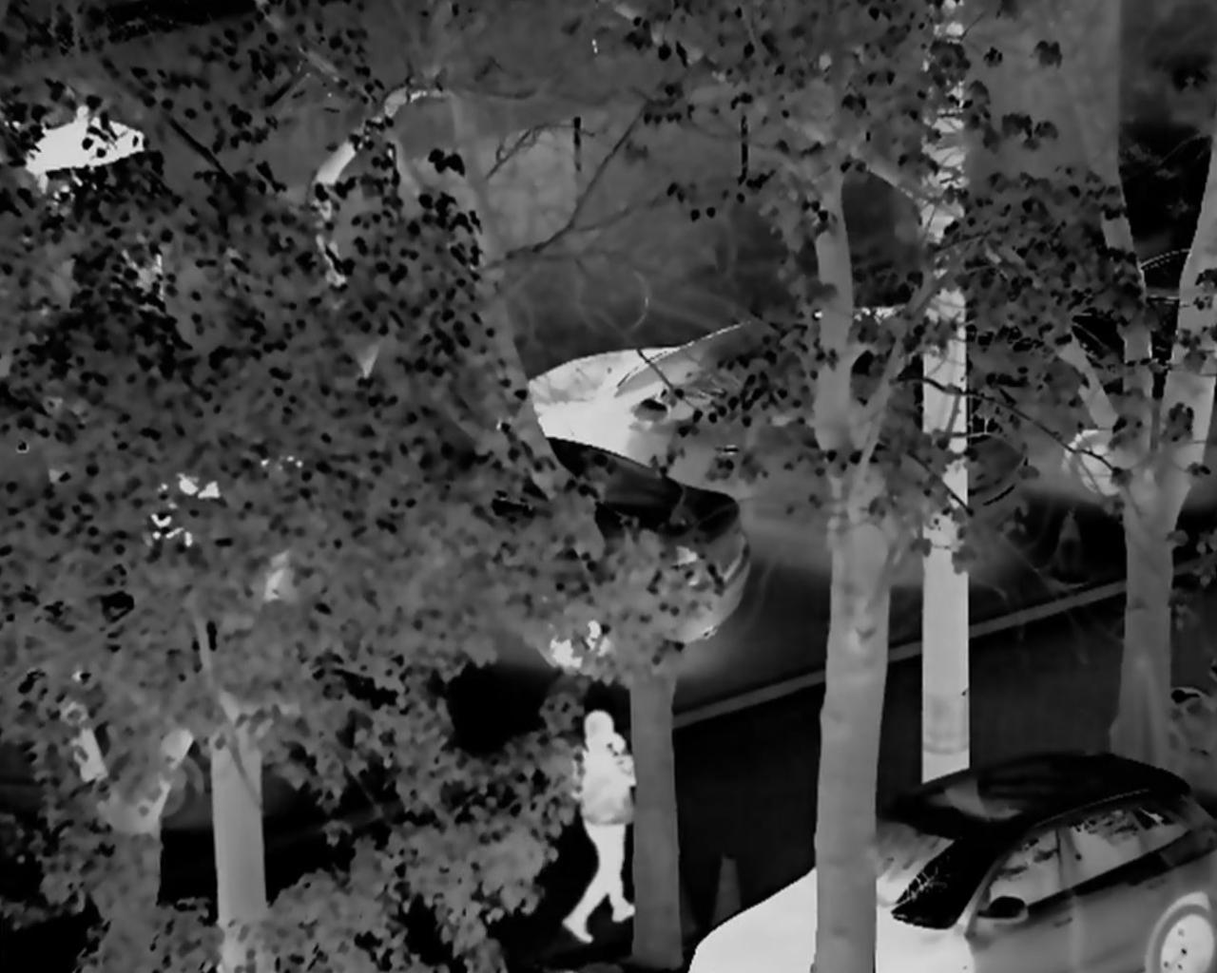person: (556, 706, 641, 942)
